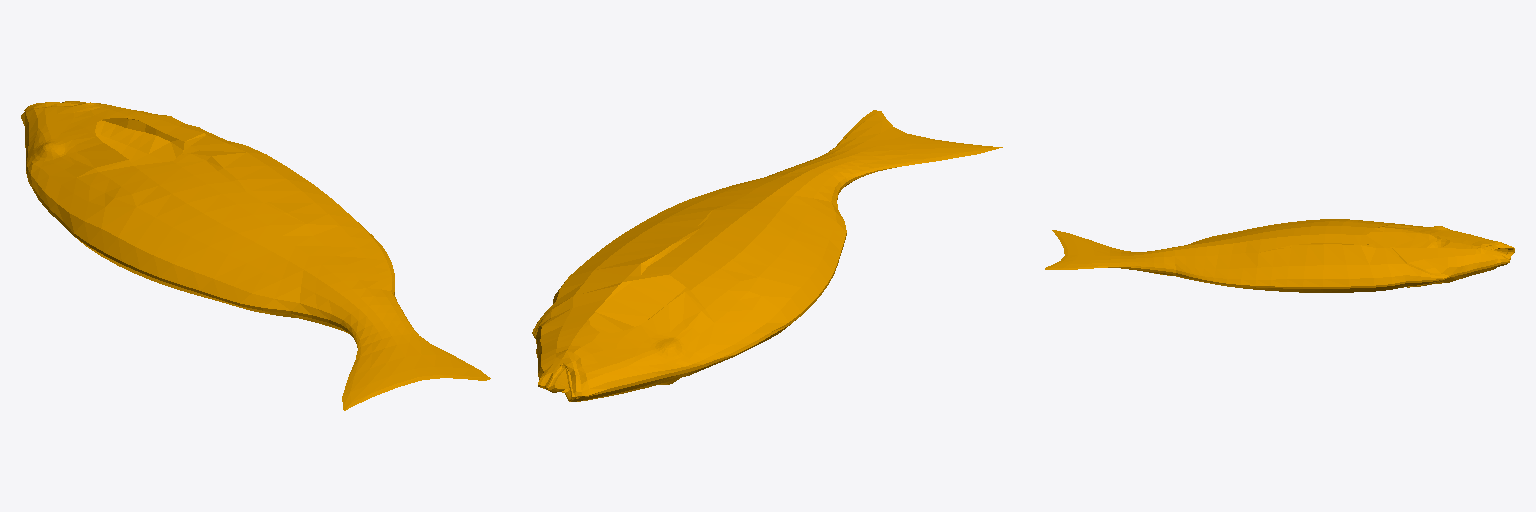
The robot description file, URDF, robot "fish":
<?xml version="1.0" ?>
<robot name="fish" xmlns:xacro="http://www.ros.org/wiki/xacro">
  <link name="head">
    <visual>
      <origin rpy="0 0 0" xyz="0 0 0"/>
      <geometry>
        <mesh filename="package://fish-hole/fish-hole-sided.stl"/>
      </geometry>
    </visual>
    <collision>
      <origin rpy="0 0 0" xyz="0 0 0"/>
      <geometry>
        <mesh filename="package://fish-hole/fish-hole-sided-vhacd.obj"/>
      </geometry>
    </collision>
  </link>

</robot>

--- What the picture shows (computed from the rendered views, not written in the file) ---
The picture shows the robot from 3 angles, left to right: view 1: azimuth 30°, elevation 25°; view 2: azimuth 150°, elevation 25°; view 3: azimuth 270°, elevation 25°; orthographic projection.
Robot: fish — 1 links, 0 joints (none); root link head; default pose: every joint at zero.
Links seen in each view (by area): view 1: head; view 2: head; view 3: head.
Boxes of the visible links, box(x1,y1,x2,y2) form: head: box(21, 101, 490, 410); head: box(532, 110, 1002, 401); head: box(1045, 219, 1514, 292).
Bounding box of the posed robot: 1.58 × 4.82 × 0.4948 m (x, y, z).
Meshes: 1 distinct files referenced, 1 mesh visuals loaded (1 binary STL).